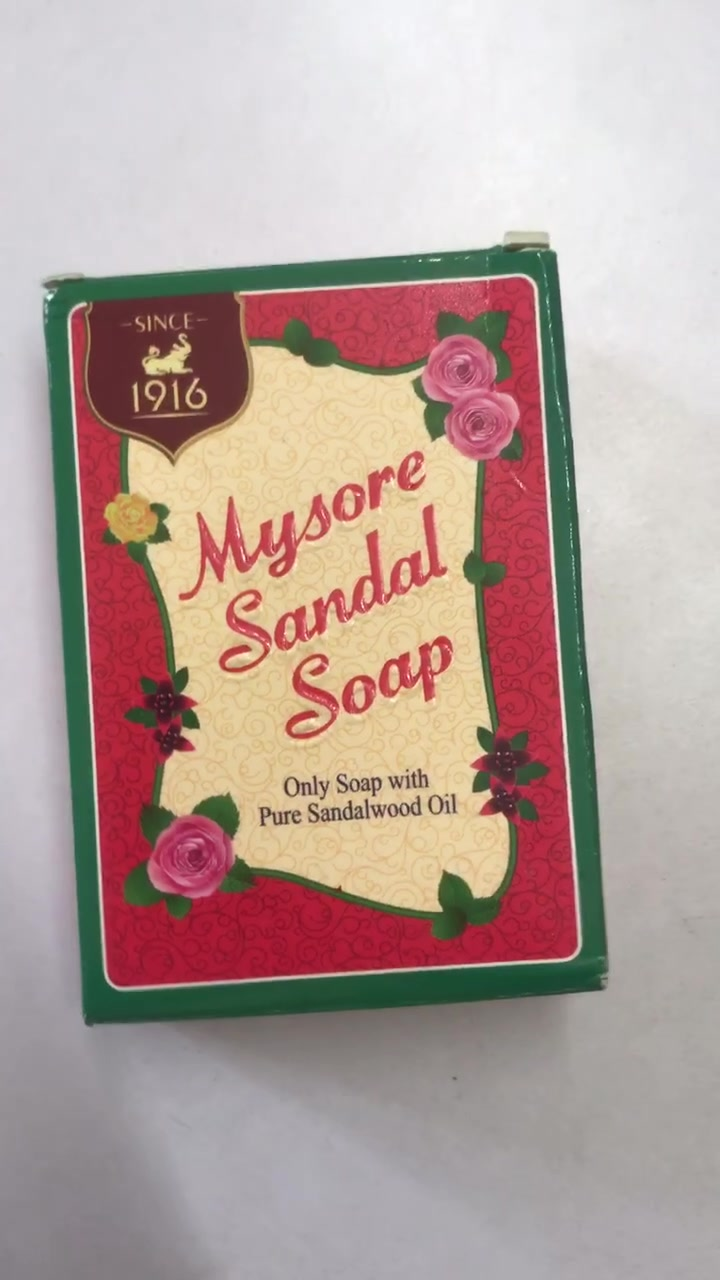mysore sandal soap: (55, 277, 587, 1007)
